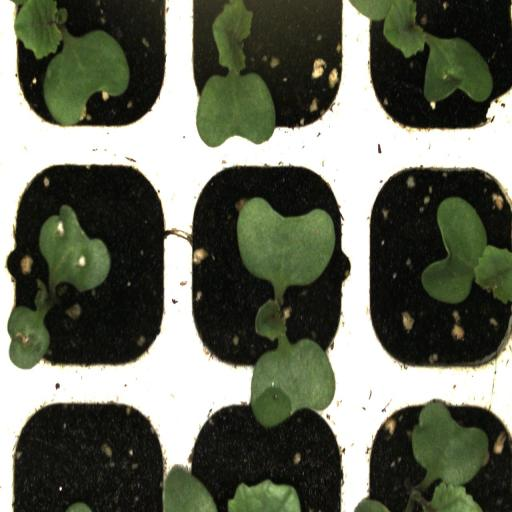noseedling: (3, 146, 182, 380)
seedling: (186, 146, 355, 381), (6, 0, 182, 142), (184, 0, 354, 145), (358, 0, 512, 139)
